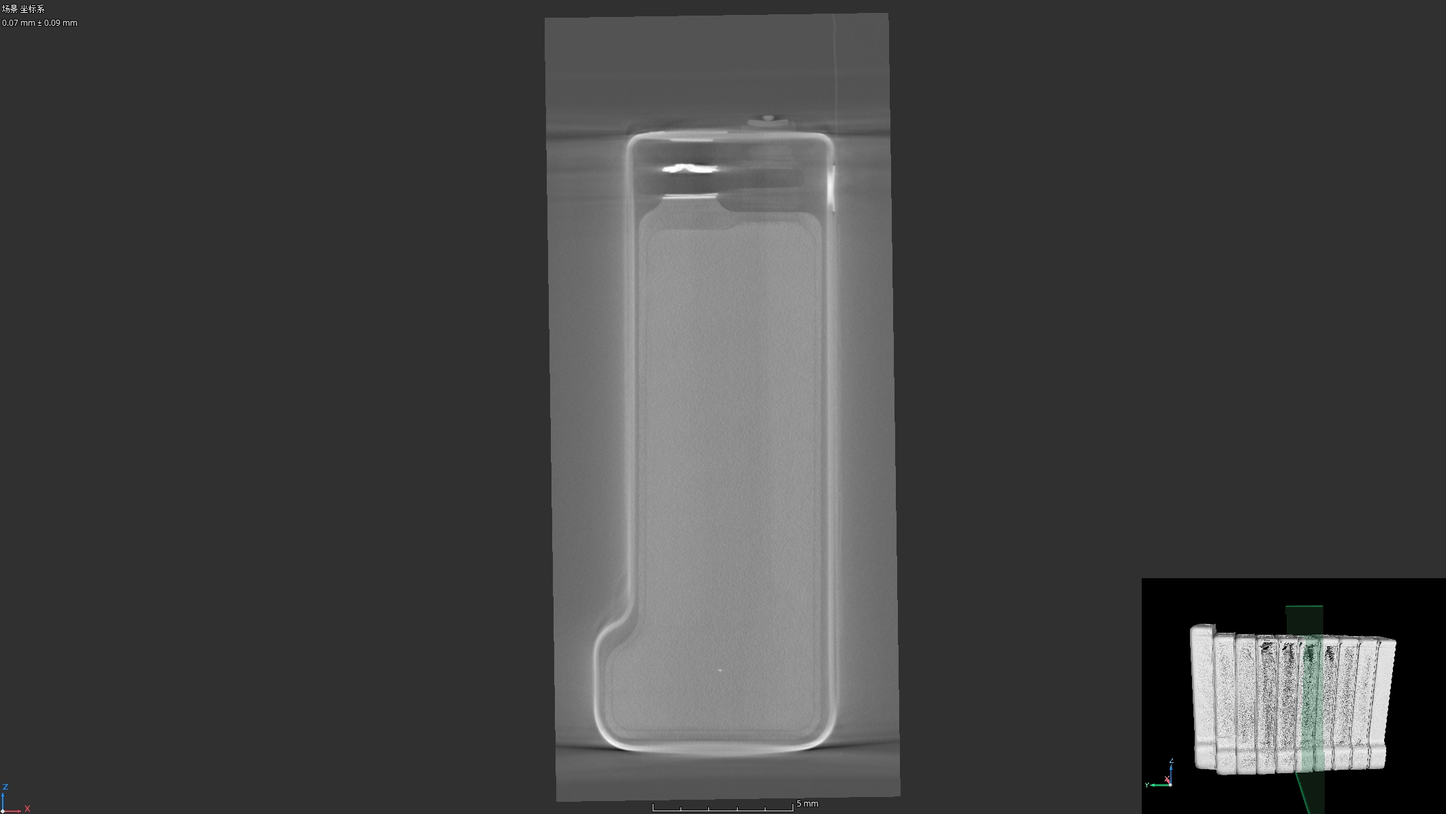light: (716, 668, 723, 672)
